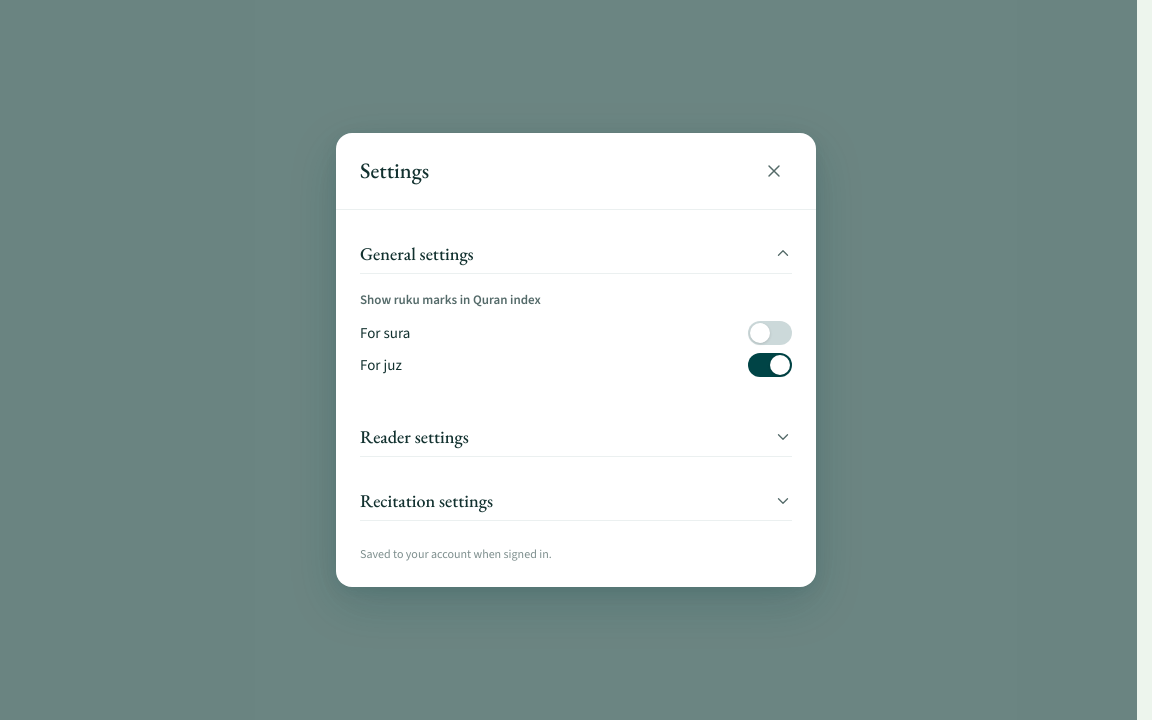
Test: SettingsSheet sections › lets the open section collapse, leaving none expanded
The image size is (1152, 720).
Click the button "General settings" at [417, 253], box [360,234,792,273]
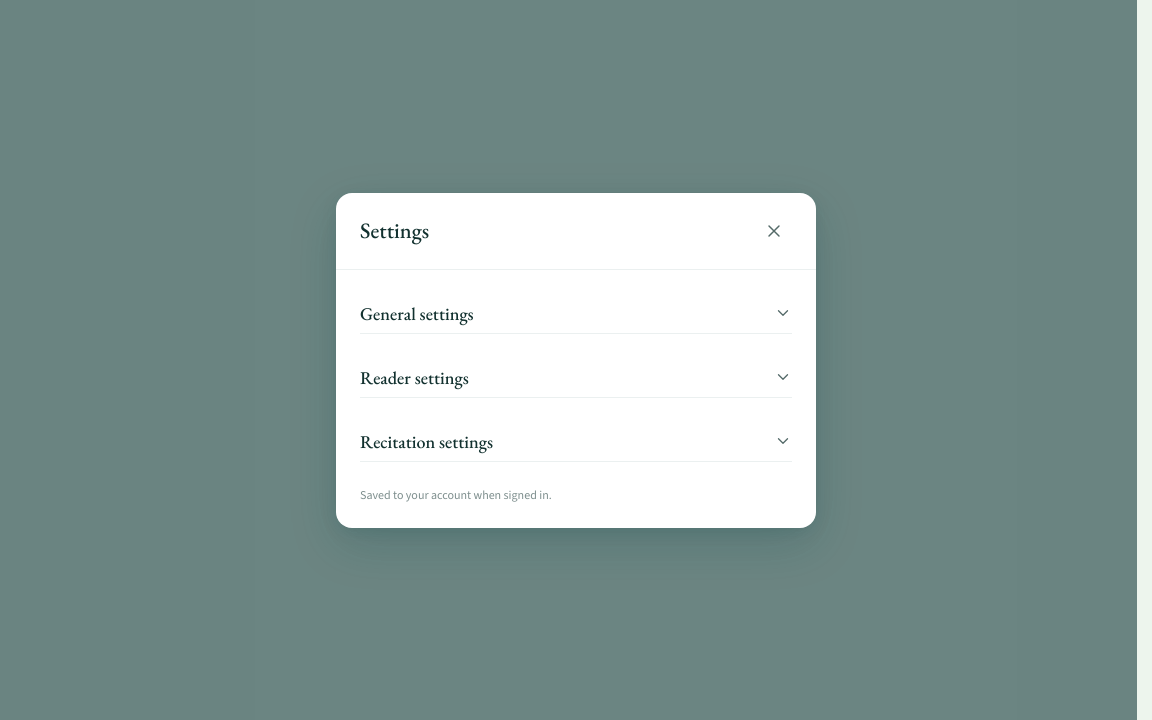
Check: the button "General settings" is collapsed, box [360,294,792,332]
